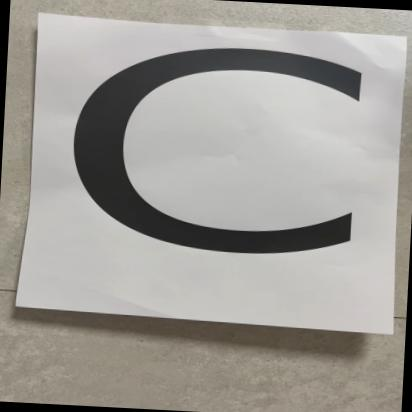seat: (28, 10, 412, 327)
